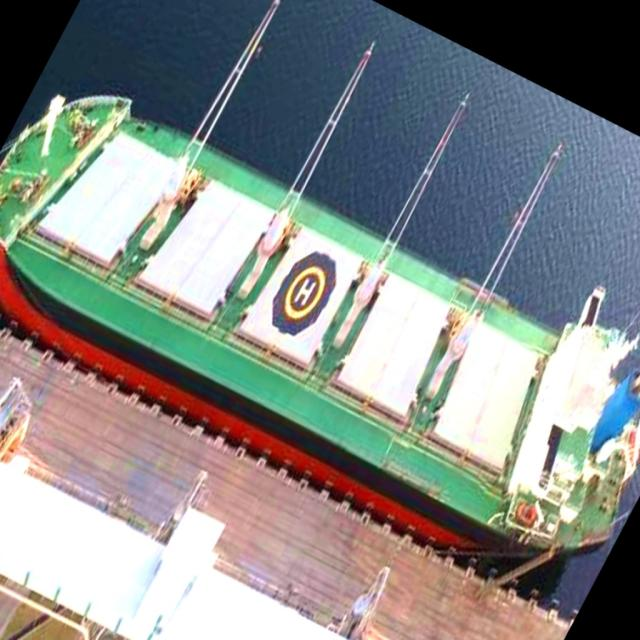helipad: (282, 264, 326, 319)
